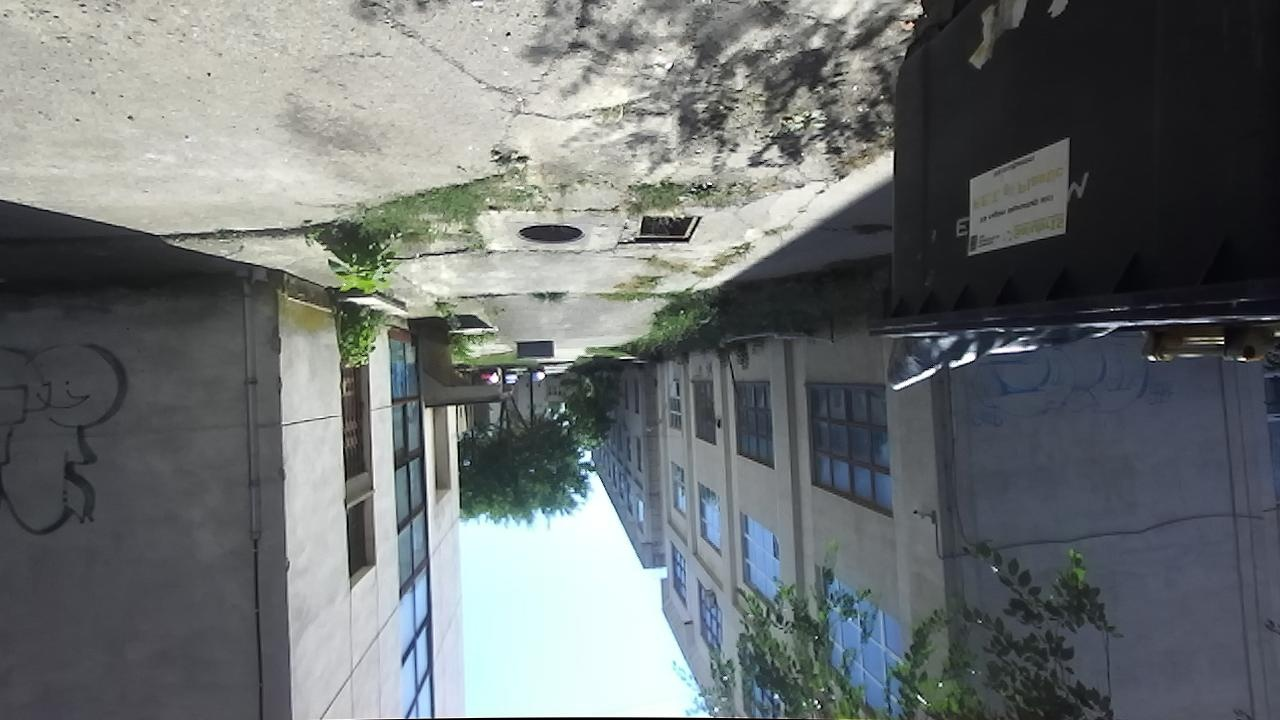drain: (631, 214, 704, 248), (514, 222, 586, 247)
